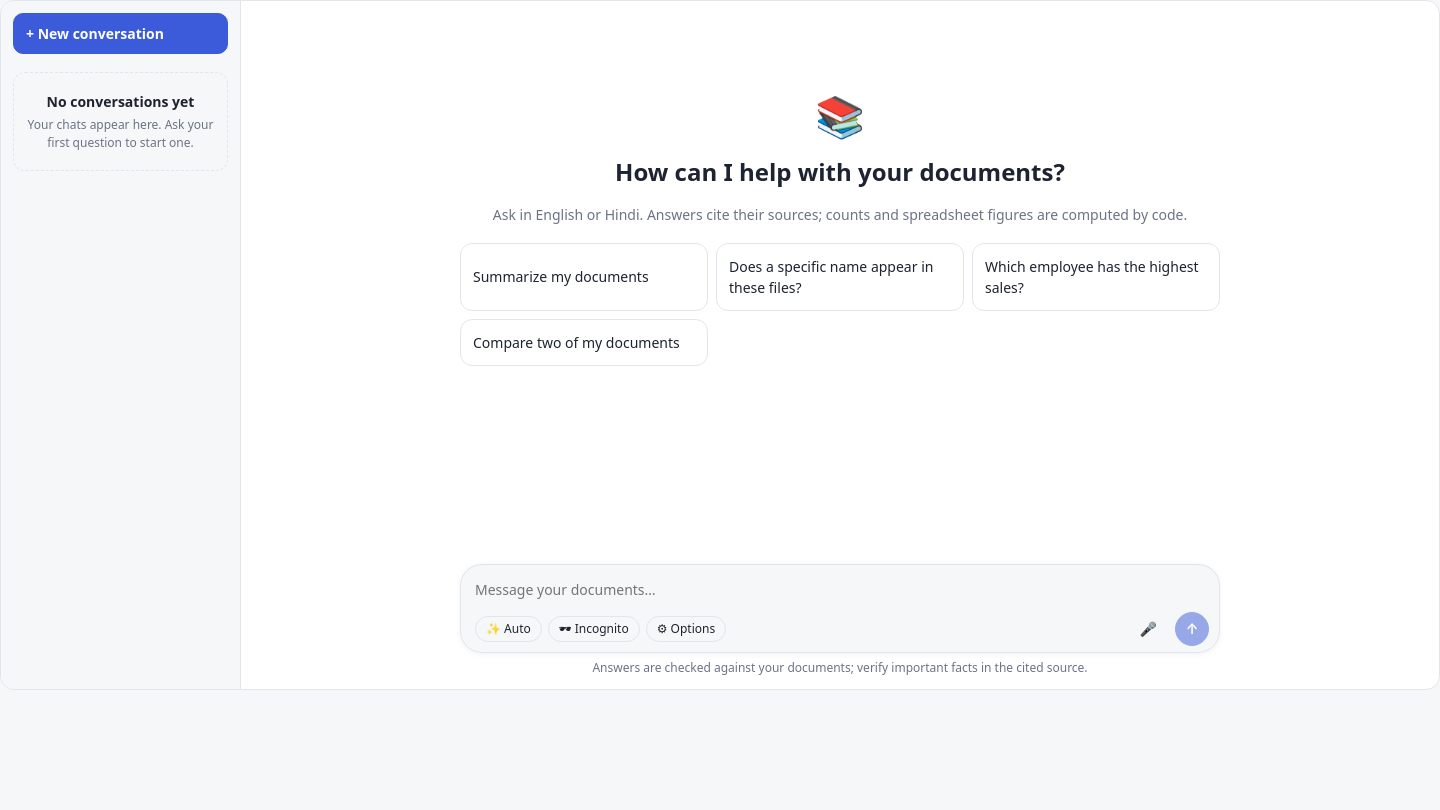
Test: Chat streaming › handles a dropped network connection mid-stream: partial text stays, error + retry shown
The image size is (1440, 810).
Type "net" into the text box named "Question" at (842, 590), box [475,573,1209,606]
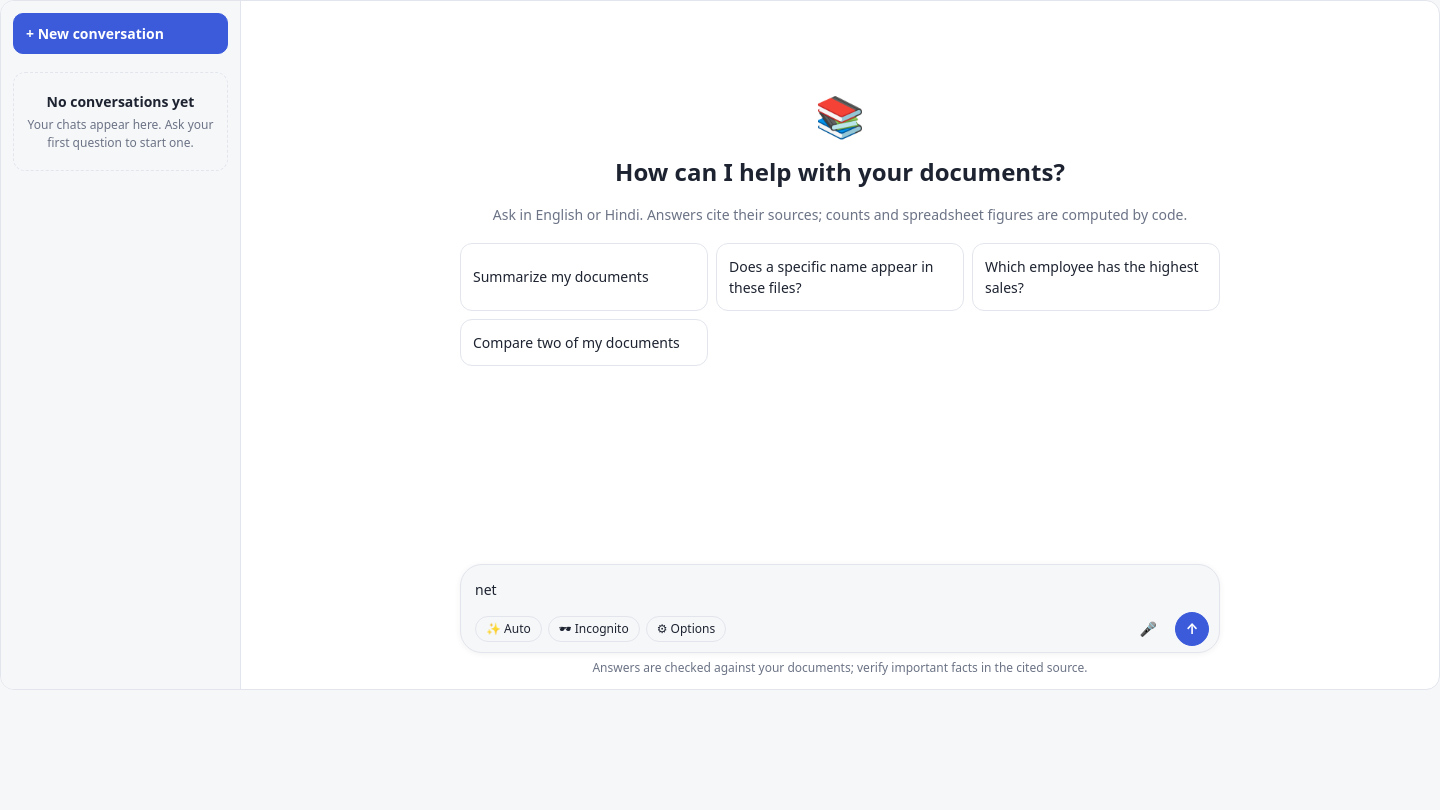
Click the button named "Ask" at (1192, 628), box [1175,612,1209,646]
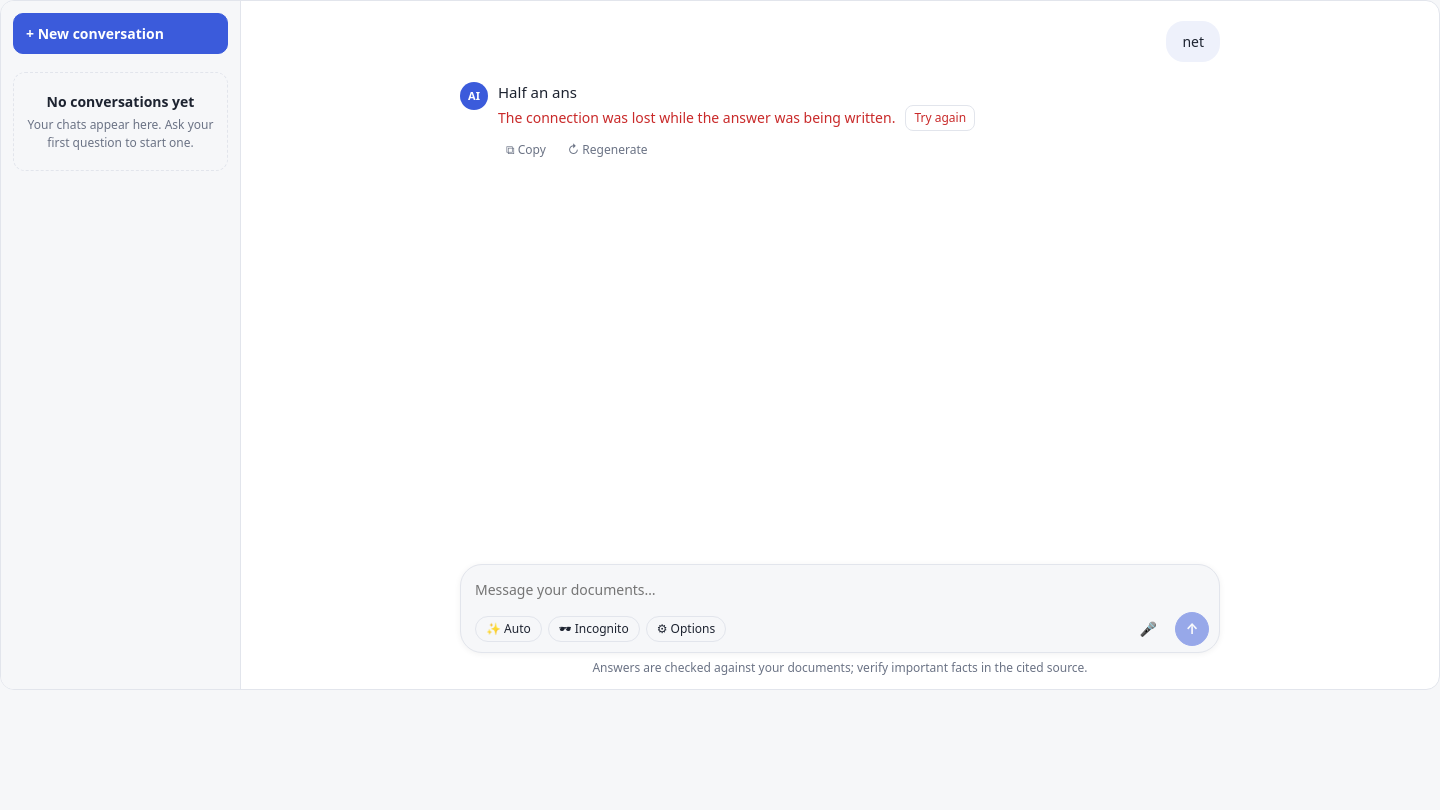
Expected: the text "The connection was lost while the answer was being written. Try again" is shown, [498,105,975,131]
Expected: the text "Half an ans" is shown, [498,82,577,102]
Expected: the button "Try again" is enabled, [905,105,975,131]
